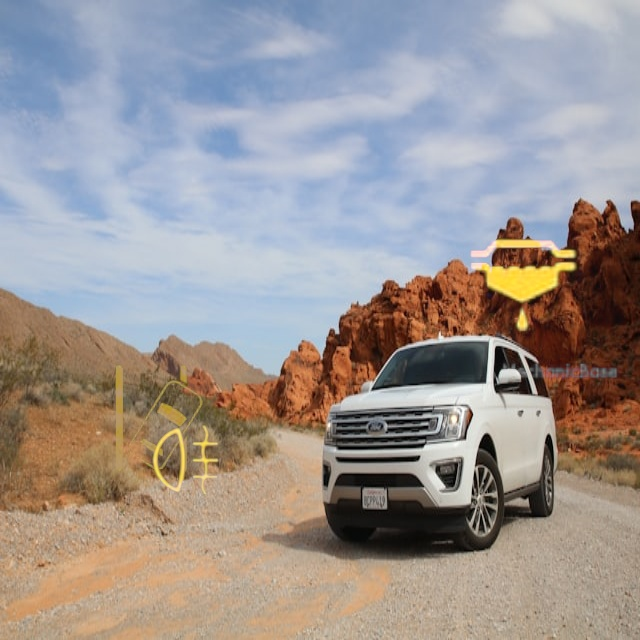symbol: (422, 185, 625, 388), (79, 342, 238, 501), (118, 392, 256, 530), (213, 177, 340, 304)
